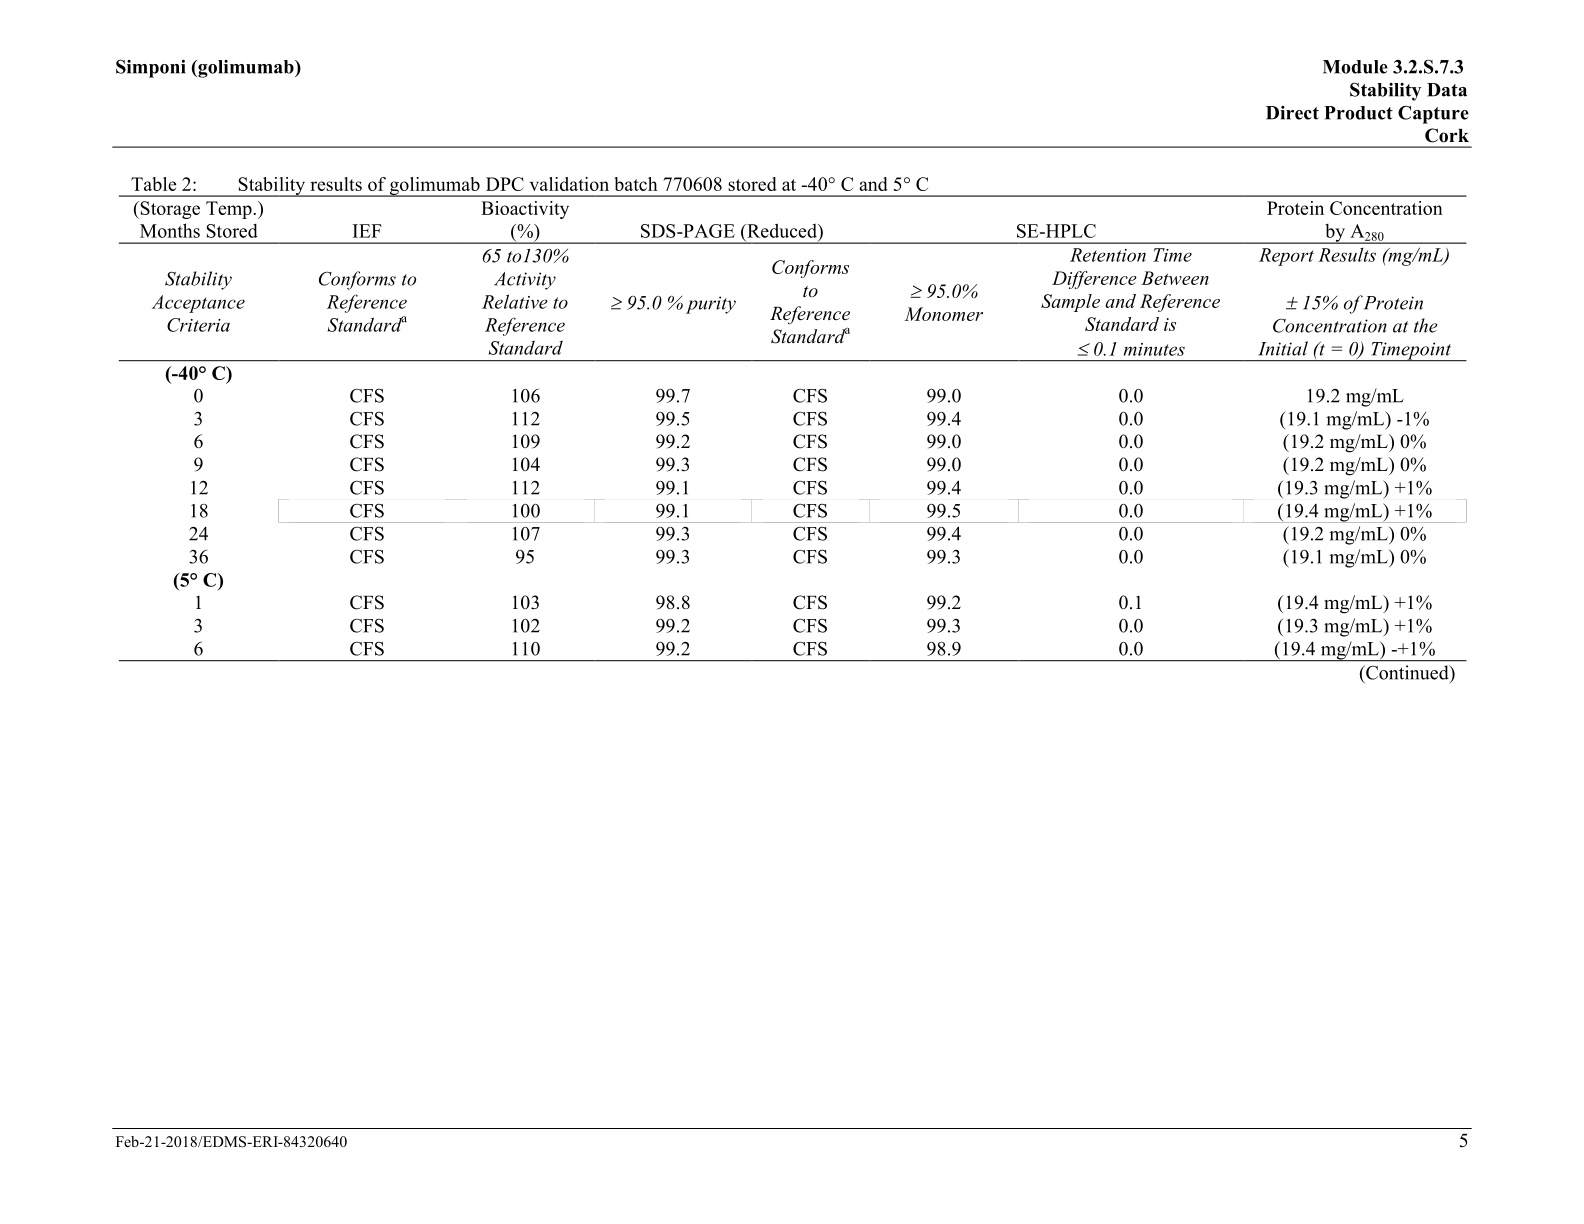partial_lined: (120, 195, 1467, 663)
